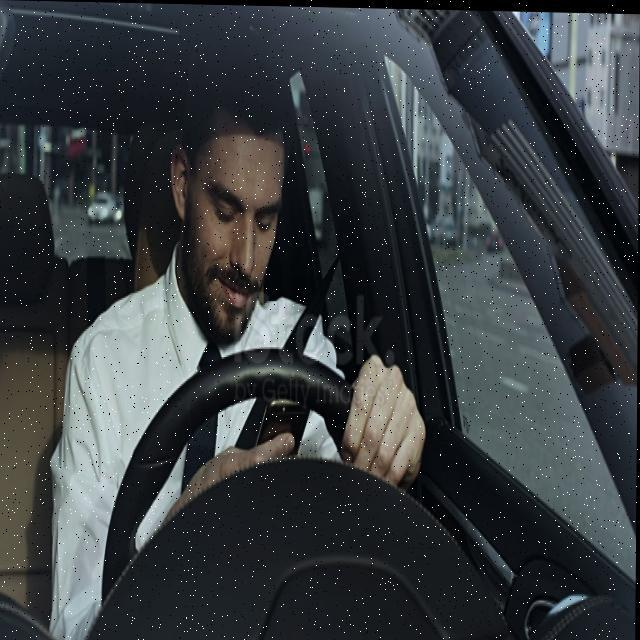PhoneCall: (250, 390, 314, 462)
